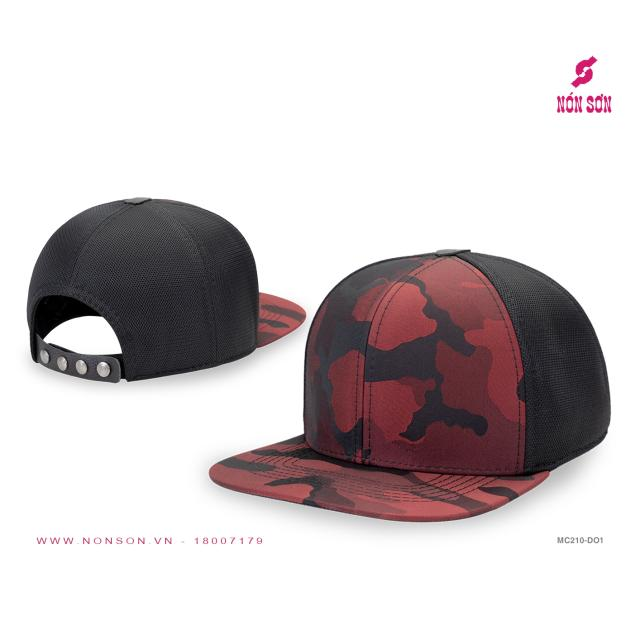no_helmet: (197, 242, 621, 526), (22, 194, 309, 388)
